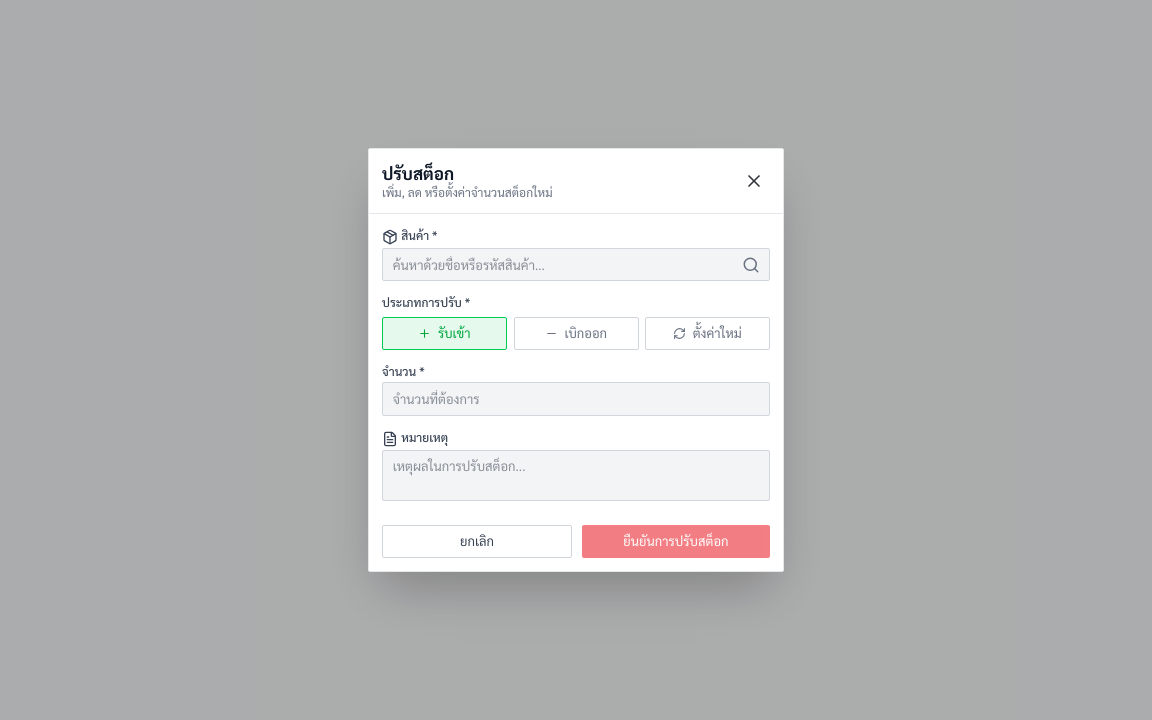
Test: StockAdjustmentModal Component › Item Search Functionality › shows no results message when search returns empty
This screenshot has width=1152, height=720.
Type "xyz" into the field with placeholder "ค้นหาด้วยชื่อหรือรหัสสินค้า..." at (576, 265), box 382,248 -> 770,281
Wait 300 ms
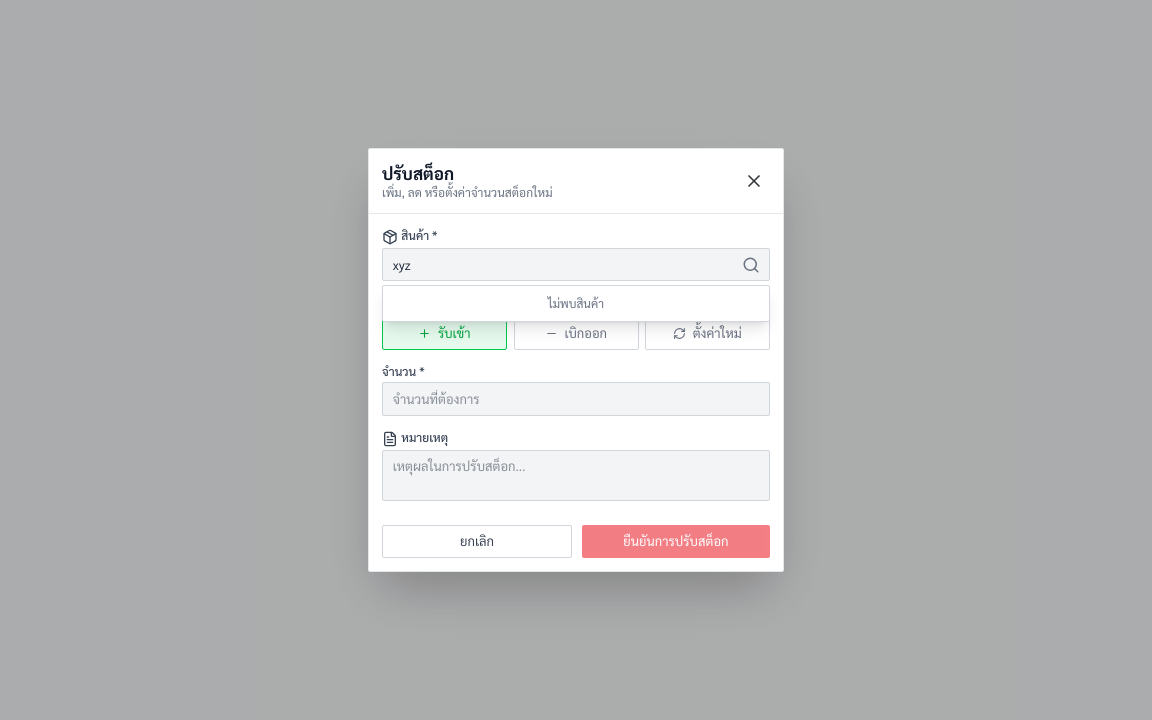
Now the text "ไม่พบสินค้า" is shown, box 382,285 -> 770,322
